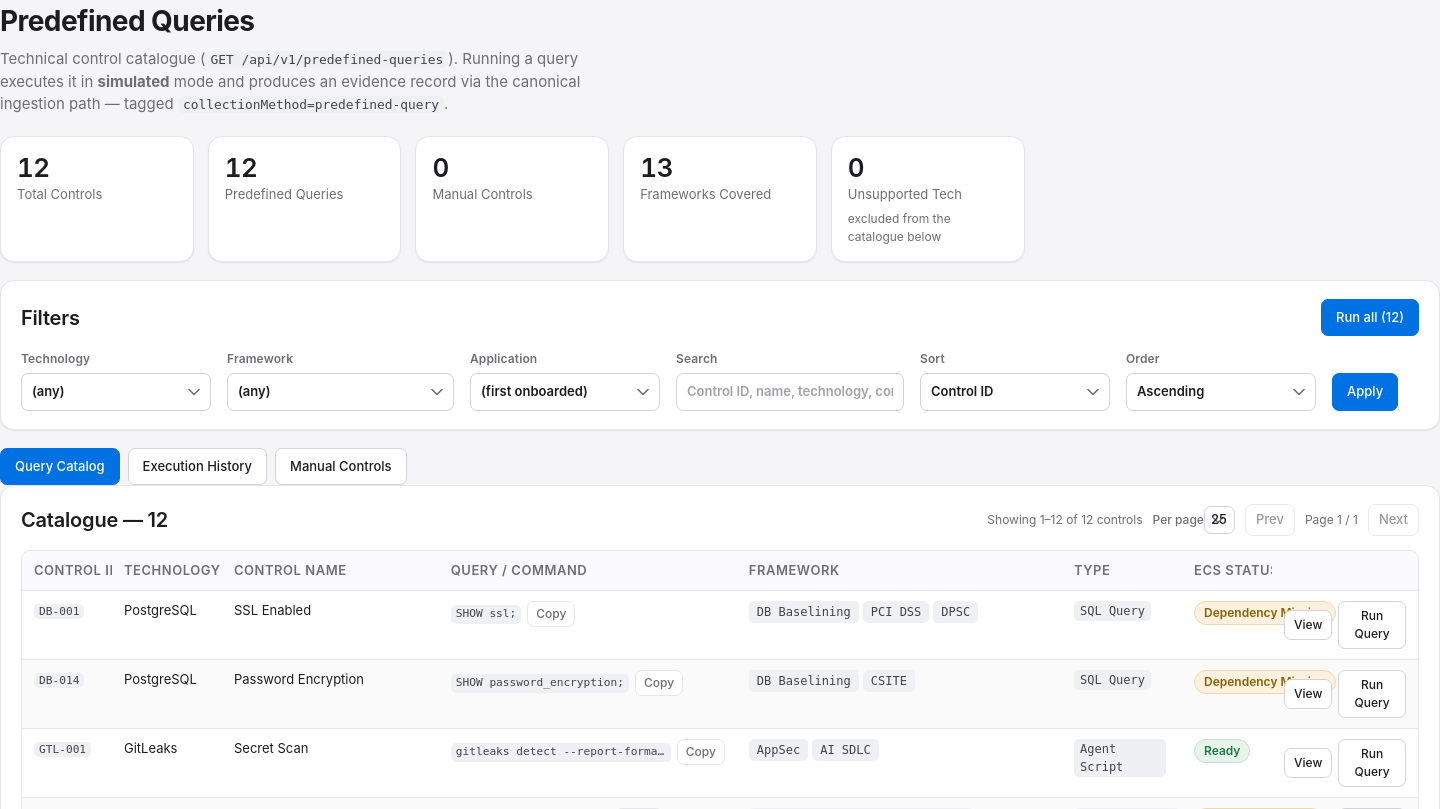
PredefinedQueries › runs the whole (filtered) catalogue and shows a scheduler-shaped summary with per-control results
Expected: the heading "Catalogue — 12" is shown, [21,505,168,535]
Click the button "Run all (12)" at (1370, 318), box [1321,299,1419,336]
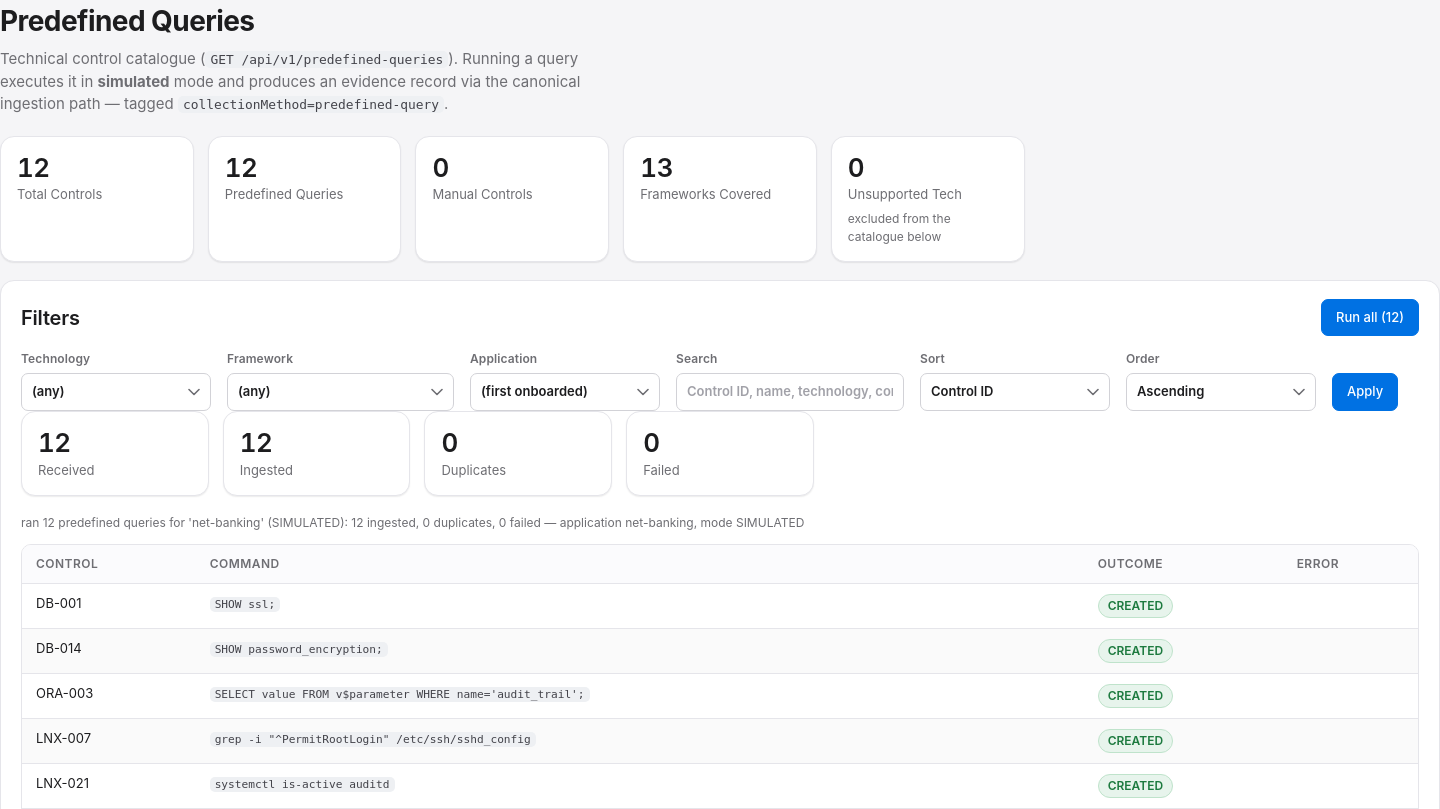
Result: the text "Received" is shown at [38,462,94,478]
Result: the text "Ingested" is shown at [240,462,293,478]
